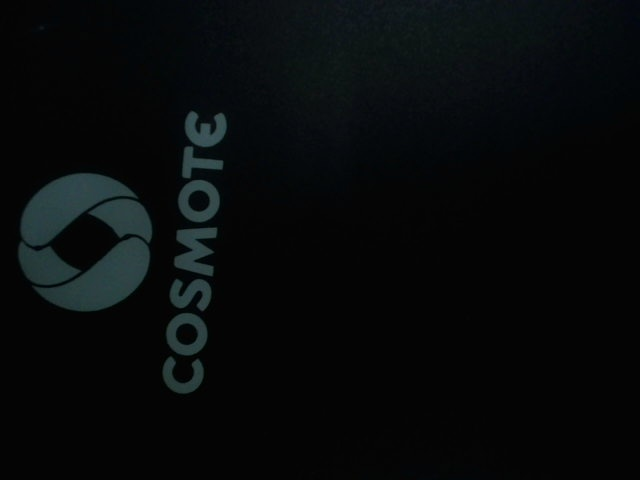AU_COSMOTE: (14, 108, 233, 393)
